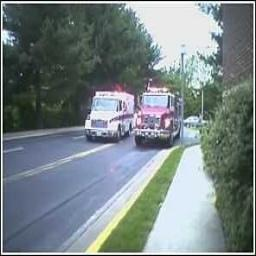ambulance: (134, 86, 180, 146), (85, 91, 133, 141)
